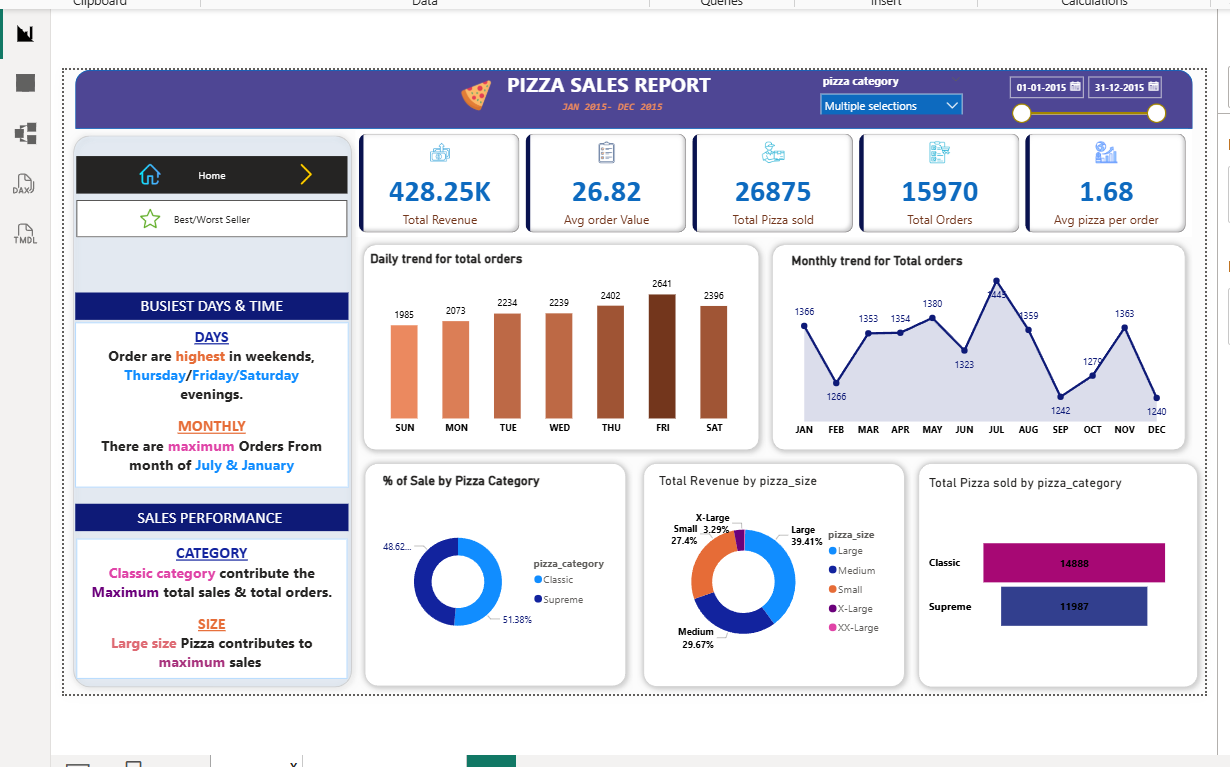

This screenshot's page, from the dashboard's own definition file:
{"tool":"powerbi","page":{"name":"Home ","canvas":[1500,820],"ordinal":0},"visuals":[{"type":"cardVisual","fields":{"Data":["pizza_sales_project pizza_sales.Total Revenue","pizza_sales_project pizza_sales.Avg order Value","pizza_sales_project pizza_sales.Total Pizza sold","pizza_sales_project pizza_sales.Total Orders","pizza_sales_project pizza_sales.Avg pizza per order"]},"box":[383.5,78.5,1100,140.5],"z":0},{"type":"shape","box":[14.8,0,1469.1,77.2],"z":1000},{"type":"textbox","box":[543.4,0,345,34.9],"z":2000},{"type":"image","box":[508.5,8.4,68.4,50.3],"z":3000},{"type":"textbox","box":[624.4,33.5,192.8,32.1],"z":4000},{"type":"shape","box":[384,219.4,538.5,288.7],"z":5000},{"type":"columnChart","title":"Daily trend for total orders","fields":{"Category":["pizza_sales_project pizza_sales.Order Day"],"Y":["pizza_sales_project pizza_sales.Total Orders"]},"box":[398.4,238.7,508.6,250],"z":6000},{"type":"shape","box":[922.5,220.9,561.6,288.7],"z":7000},{"type":"areaChart","title":"Monthly trend for Total orders","fields":{"Category":["pizza_sales_project pizza_sales.Order Month"],"Y":["pizza_sales_project pizza_sales.Total Orders"]},"box":[951.3,240.3,507.1,251.4],"z":8000},{"type":"shape","box":[386.9,508.5,361.8,311.5],"z":9000},{"type":"shape","box":[753,507.2,361.7,312.2],"z":10000},{"type":"shape","box":[1114.7,507.1,385.5,312.9],"z":11000},{"type":"donutChart","title":"% of Sale by Pizza Category","fields":{"Category":["pizza_sales_project pizza_sales.pizza_category"],"Y":["pizza_sales_project pizza_sales.Total Revenue"]},"box":[413.9,529.8,308,268.4],"z":12000},{"type":"funnel","fields":{"Category":["pizza_sales_project pizza_sales.pizza_category"],"Y":["pizza_sales_project pizza_sales.Total Pizza sold"]},"box":[1132.9,532.2,325.5,268.2],"z":13000},{"type":"shape","box":[2.8,76.8,384.1,743.2],"z":14000},{"type":"textbox","box":[14,292,359,36.3],"z":15000},{"type":"textbox","box":[14,332.5,359,216.5],"z":16000},{"type":"textbox","box":[14,569.9,359,36.3],"z":17000},{"type":"textbox","box":[16.8,616,356.2,184.4],"z":18000},{"type":"donutChart","fields":{"Y":["pizza_sales_project pizza_sales.Total Revenue"],"Category":["pizza_sales_project pizza_sales.pizza_size"]},"box":[777,529.8,312.2,268.4],"z":19000},{"type":"slicer","fields":{"Values":["pizza_sales_project pizza_sales.pizza_category"]},"box":[984.8,0,206.7,58.7],"z":20000},{"type":"slicer","fields":{"Values":["pizza_sales_project pizza_sales.order_date"]},"box":[1230.8,0,226.8,78.9],"z":21000},{"type":"pageNavigator","box":[16.4,113.4,356.6,49.3],"z":22000},{"type":"pageNavigator","box":[16.4,170.9,356.6,49.3],"z":23000},{"type":"image","box":[290.9,118.3,55.9,37.8],"z":24000},{"type":"image","box":[90.4,118.3,46,37.8],"z":25000},{"type":"image","box":[95.3,170.9,36.2,49.3],"z":26000}]}

Visuals, with their boxes on the page's 1500x820 design canvas (x1, y1, x2, y2). These are canvas units, not pixel positions in the 1230x767 screenshot, which may show the page scaled, cropped or inside an application window:
cardVisual - pizza_sales_project pizza_sales.Total Revenue x pizza_sales_project pizza_sales.Avg order Value: crop(384, 78, 1484, 219)
shape: crop(15, 0, 1484, 77)
textbox: crop(543, 0, 888, 35)
image: crop(508, 8, 577, 59)
textbox: crop(624, 34, 817, 66)
shape: crop(384, 219, 922, 508)
"Daily trend for total orders" columnChart: crop(398, 239, 907, 489)
shape: crop(922, 221, 1484, 510)
"Monthly trend for Total orders" areaChart: crop(951, 240, 1458, 492)
shape: crop(387, 508, 749, 820)
shape: crop(753, 507, 1115, 819)
shape: crop(1115, 507, 1500, 820)
"% of Sale by Pizza Category" donutChart: crop(414, 530, 722, 798)
funnel - pizza_sales_project pizza_sales.pizza_category x pizza_sales_project pizza_sales.Total Pizza sold: crop(1133, 532, 1458, 800)
shape: crop(3, 77, 387, 820)
textbox: crop(14, 292, 373, 328)
textbox: crop(14, 332, 373, 549)
textbox: crop(14, 570, 373, 606)
textbox: crop(17, 616, 373, 800)
donutChart - pizza_sales_project pizza_sales.Total Revenue x pizza_sales_project pizza_sales.pizza_size: crop(777, 530, 1089, 798)
slicer - pizza_sales_project pizza_sales.pizza_category: crop(985, 0, 1192, 59)
slicer - pizza_sales_project pizza_sales.order_date: crop(1231, 0, 1458, 79)
pageNavigator: crop(16, 113, 373, 163)
pageNavigator: crop(16, 171, 373, 220)
image: crop(291, 118, 347, 156)
image: crop(90, 118, 136, 156)
image: crop(95, 171, 132, 220)
